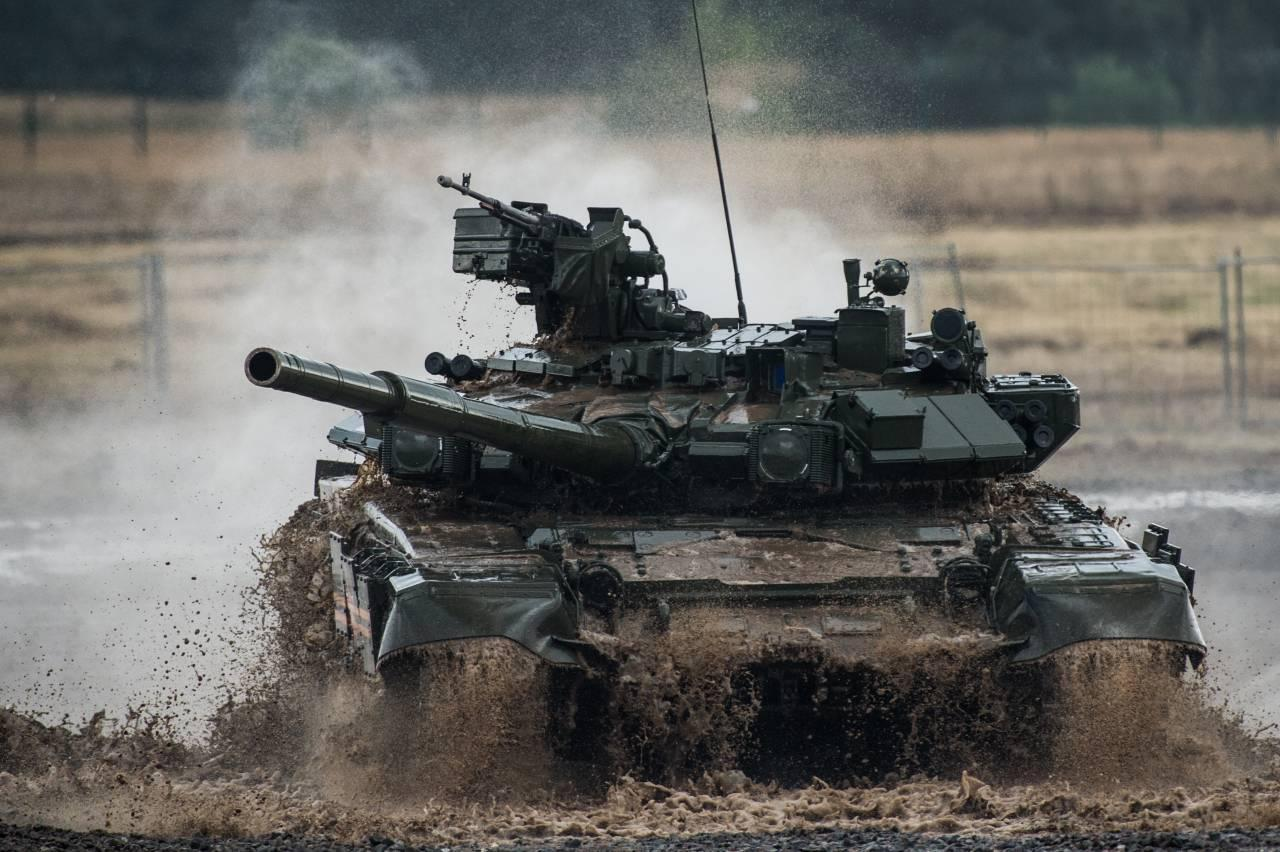tank: (242, 170, 1210, 787)
